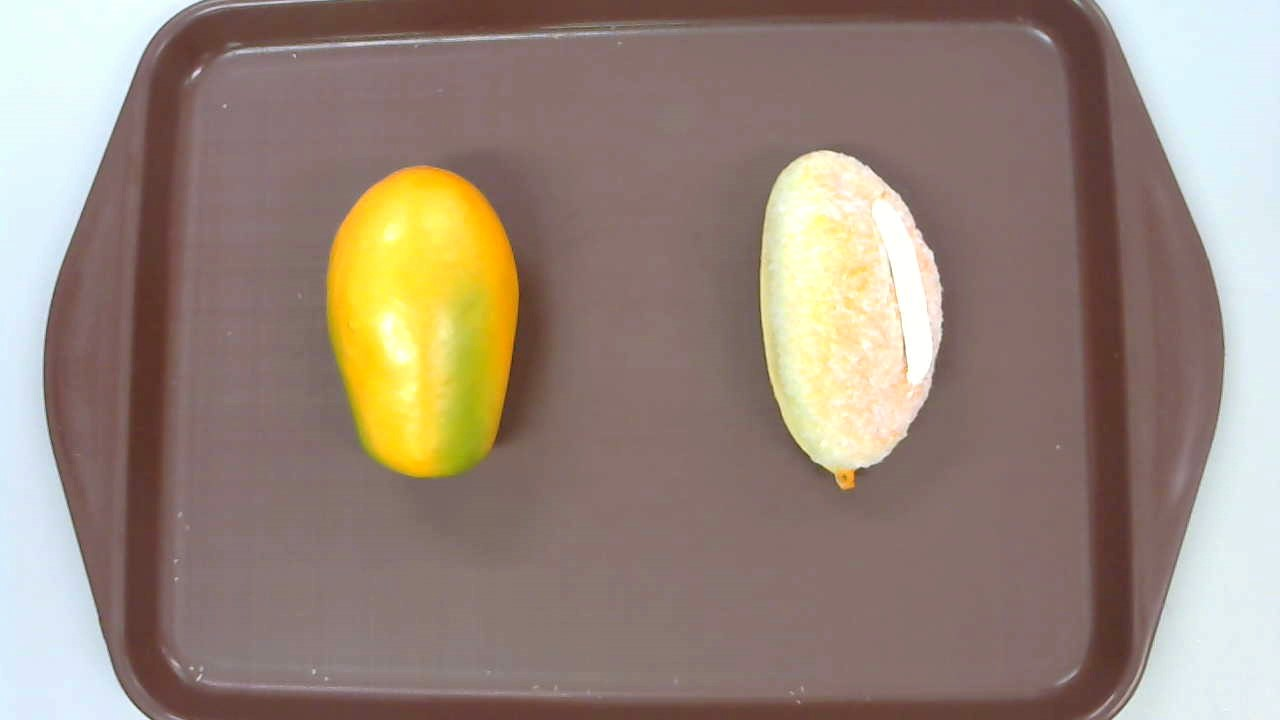coconut: (760, 148, 942, 491)
papya: (324, 166, 520, 478)
